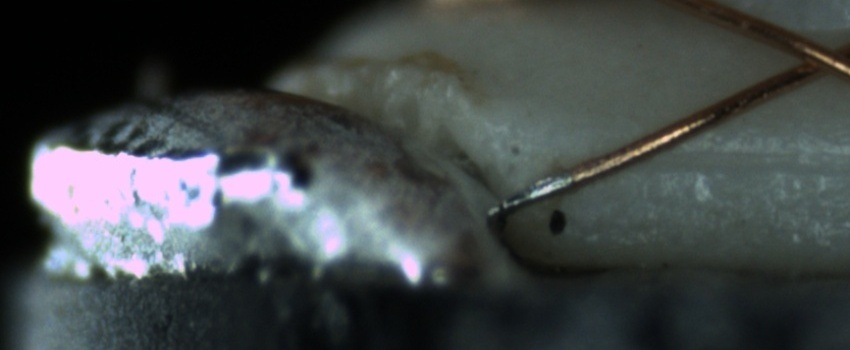CL: (772, 26, 848, 88)
DL: (622, 124, 844, 191)
TS: (493, 170, 571, 218)
